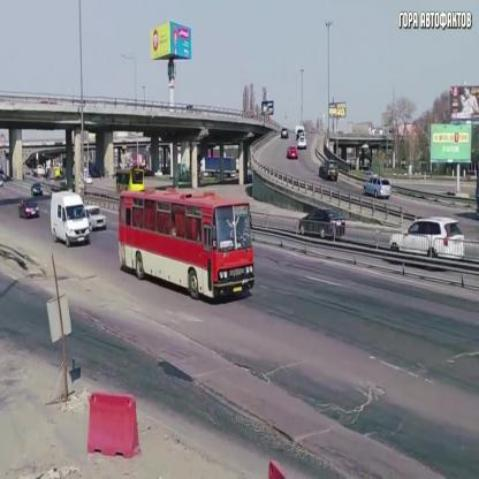bus: (117, 188, 257, 303), (115, 168, 145, 189)
car: (386, 216, 469, 265), (295, 206, 349, 244), (363, 174, 394, 200), (83, 201, 107, 233), (14, 198, 41, 221), (319, 157, 342, 183), (29, 183, 47, 200), (284, 146, 303, 161), (296, 134, 309, 153), (281, 126, 289, 142), (297, 124, 305, 140)
van: (45, 190, 92, 246)
